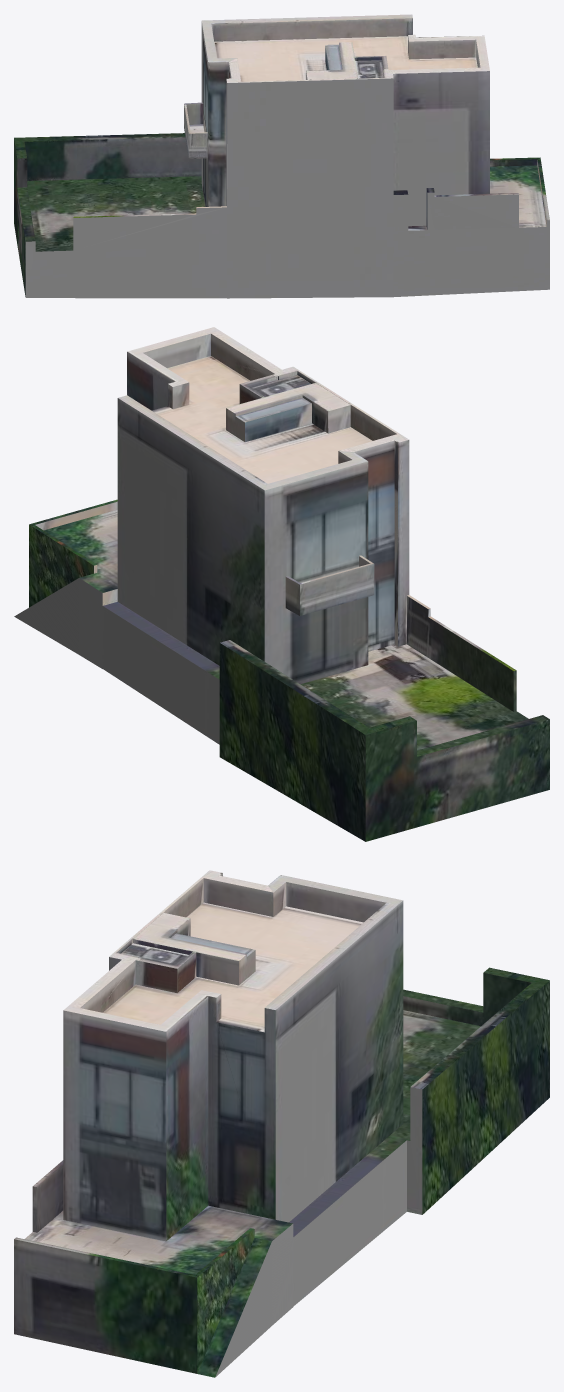
3 views of the same model, one above another, from view 1: azimuth 30°, elevation 25°; view 2: azimuth 150°, elevation 25°; view 3: azimuth 270°, elevation 25° (orthographic). The views are drawn at different scales.
Parts seen in each view (by area): view 1: B287664035101062A0; view 2: B287664035101062A0; view 3: B287664035101062A0.
Boxes of the visible parts, x1=… form: B287664035101062A0: x1=14, y1=14, x2=549, y2=298; B287664035101062A0: x1=14, y1=327, x2=549, y2=841; B287664035101062A0: x1=14, y1=870, x2=549, y2=1377.
Bounding box in the file's own units: 27.41 × 12.16 × 19.69.
Materials: 2 (2 with a texture image).
